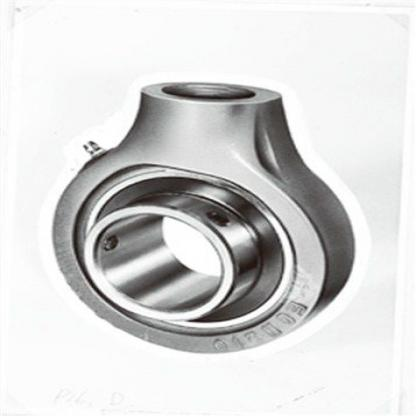FOD: (40, 78, 364, 360)
